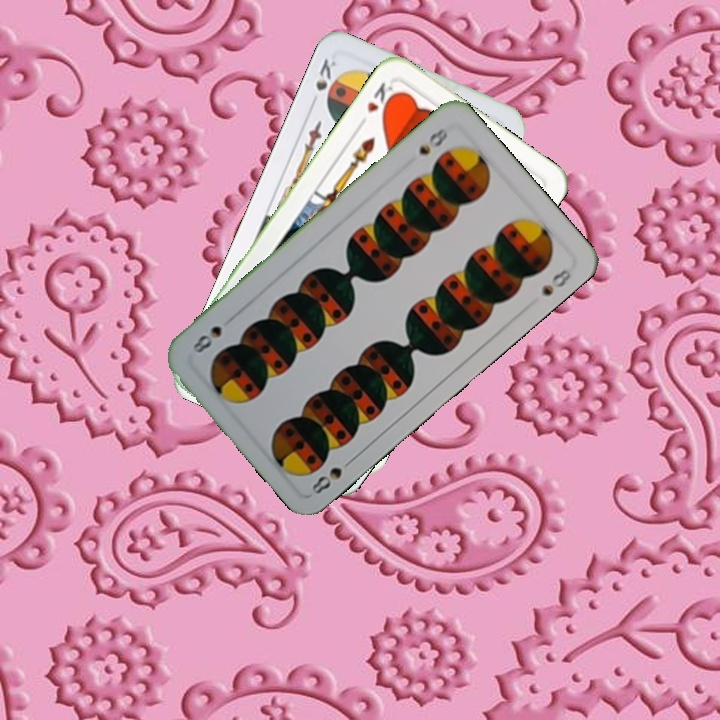HK: (354, 78, 401, 129)
S8: (307, 453, 357, 497), (414, 123, 451, 158)
SK: (311, 54, 339, 94)
